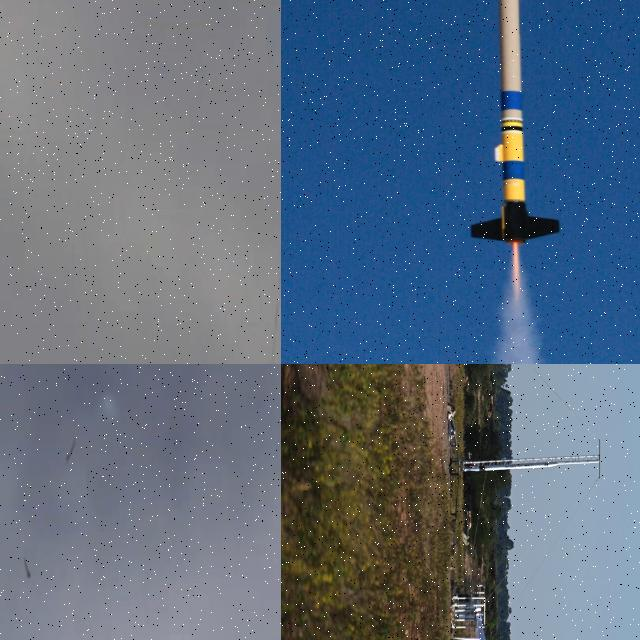Rocket: (465, 0, 564, 245), (464, 461, 558, 473), (24, 556, 31, 578)
